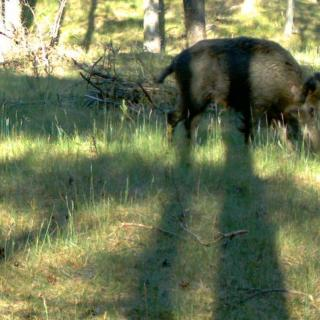Pig: (150, 44, 320, 172)
